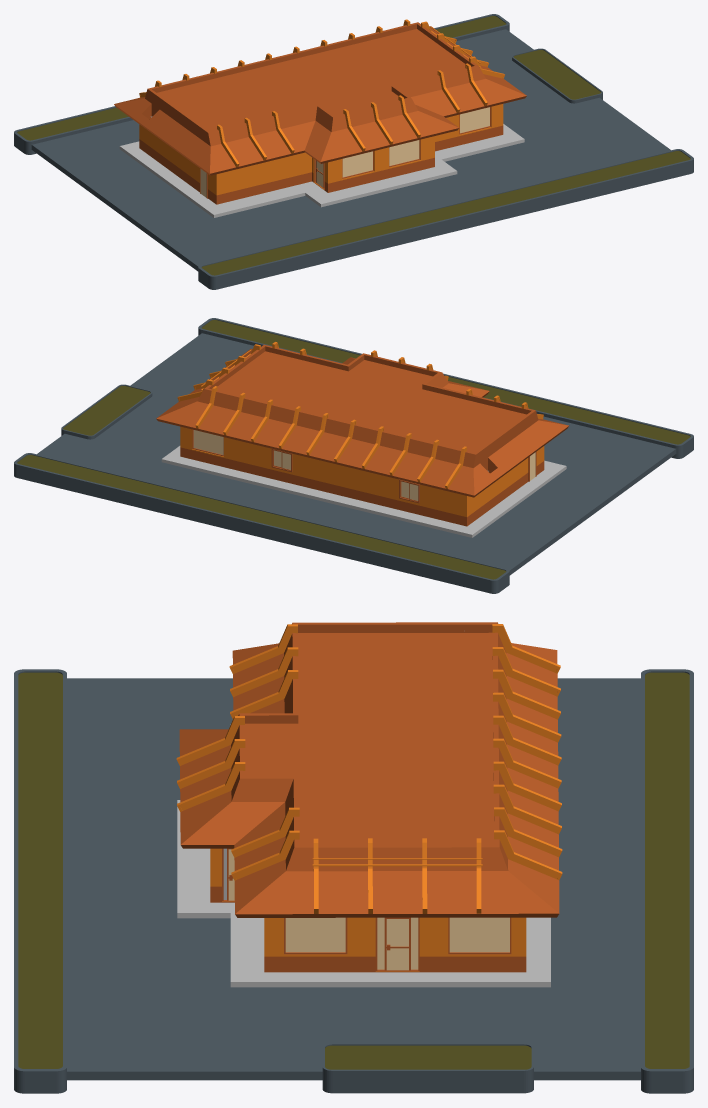
The model's file is home colored.fbx.
3 views of the same model, one above another, from view 1: azimuth 30°, elevation 25°; view 2: azimuth 150°, elevation 25°; view 3: azimuth 270°, elevation 25° (orthographic). The views are drawn at different scales.
Parts seen in each view (by area): view 1: Base; view 2: Base; view 3: Base.
Part boxes in pixels (x1,y1,x2,y2): Base: (14,14,693,289); Base: (14,318,693,593); Base: (14,622,693,1093).
Size of the model in its own units: 3740 by 634 by 2674.
